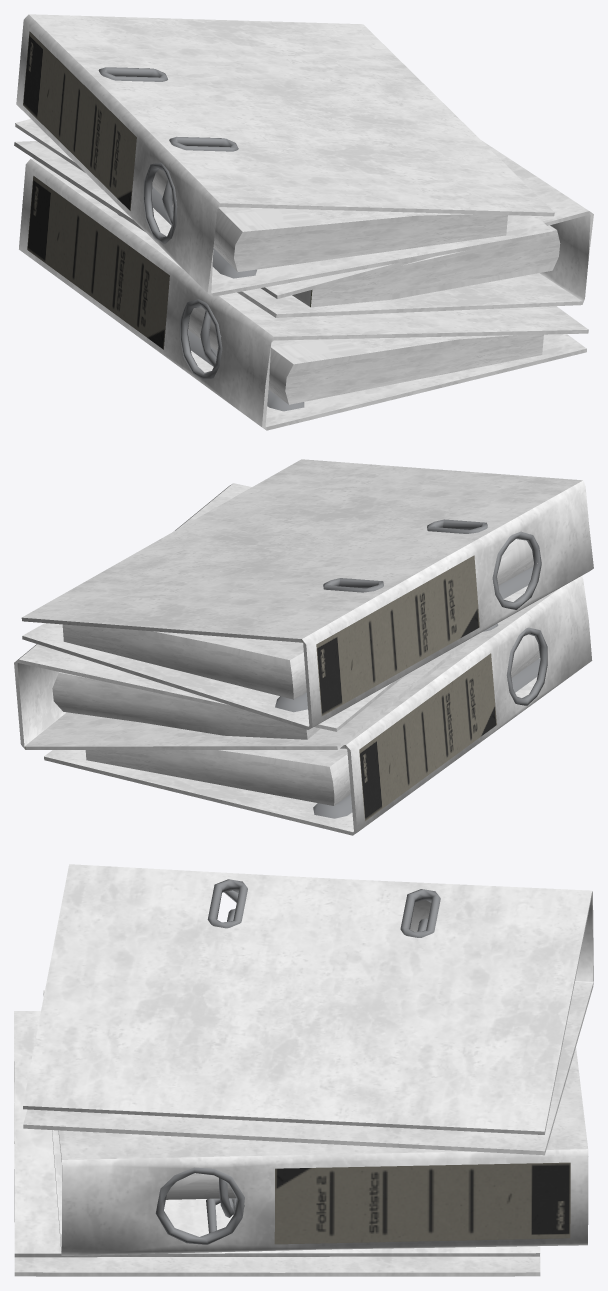
The model's file is SM_Folder7.fbx.
3 views of the same model, one above another, from view 1: azimuth 30°, elevation 25°; view 2: azimuth 150°, elevation 25°; view 3: azimuth 270°, elevation 25° (orthographic). The views are drawn at different scales.
Visible parts, largest first — view 1: SM_Folder7_LOD0; view 2: SM_Folder7_LOD0; view 3: SM_Folder7_LOD0.
Part boxes in pixels (x1=…): SM_Folder7_LOD0: x1=14, y1=14, x2=593, y2=430; SM_Folder7_LOD0: x1=14, y1=459, x2=593, y2=835; SM_Folder7_LOD0: x1=14, y1=864, x2=593, y2=1276.
Bounding box in the file's own units: 43.67 × 52.97 × 23.35.
Materials: 1 (1 with a texture image).
